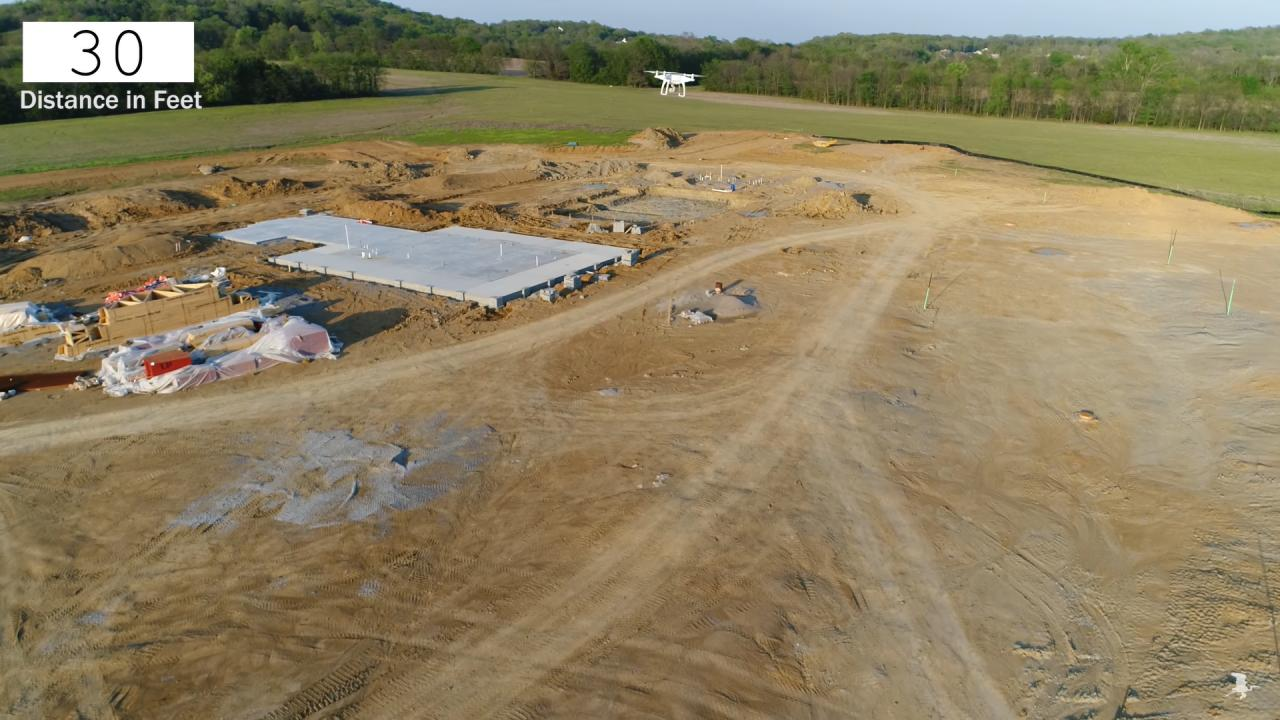Drone: (636, 60, 710, 98)
